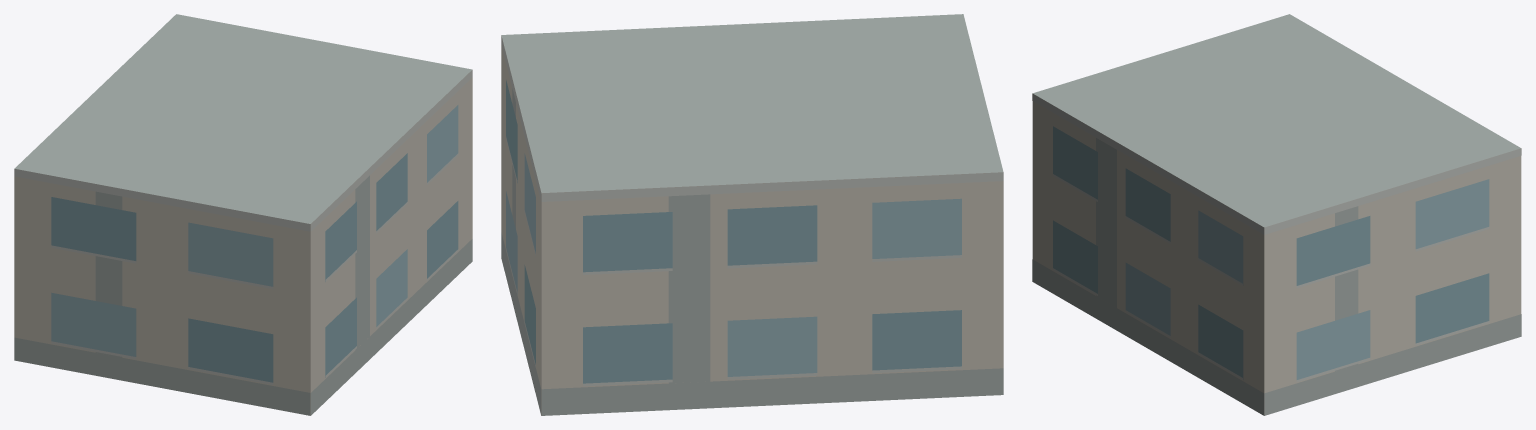
The model's file is residential-bfe76f5f-1f44-4a8b-b719-2b0f8df574a9.glb.
3 views of the same model, side by side, from view 1: azimuth 30°, elevation 25°; view 2: azimuth 150°, elevation 25°; view 3: azimuth 270°, elevation 25° (orthographic). The views are drawn at different scales.
Parts seen in each view (by area): view 1: residential-bfe76f5f-1f44-4a8b-b719-2b0f8df574a9.tmp; view 2: residential-bfe76f5f-1f44-4a8b-b719-2b0f8df574a9.tmp; view 3: residential-bfe76f5f-1f44-4a8b-b719-2b0f8df574a9.tmp.
Boxes of the visible parts, <box> form: residential-bfe76f5f-1f44-4a8b-b719-2b0f8df574a9.tmp: <box>14,14,472,415</box>; residential-bfe76f5f-1f44-4a8b-b719-2b0f8df574a9.tmp: <box>501,14,1003,415</box>; residential-bfe76f5f-1f44-4a8b-b719-2b0f8df574a9.tmp: <box>1032,14,1521,415</box>.
Bounding box in the file's own units: 14.83 × 6.1 × 14.36.
